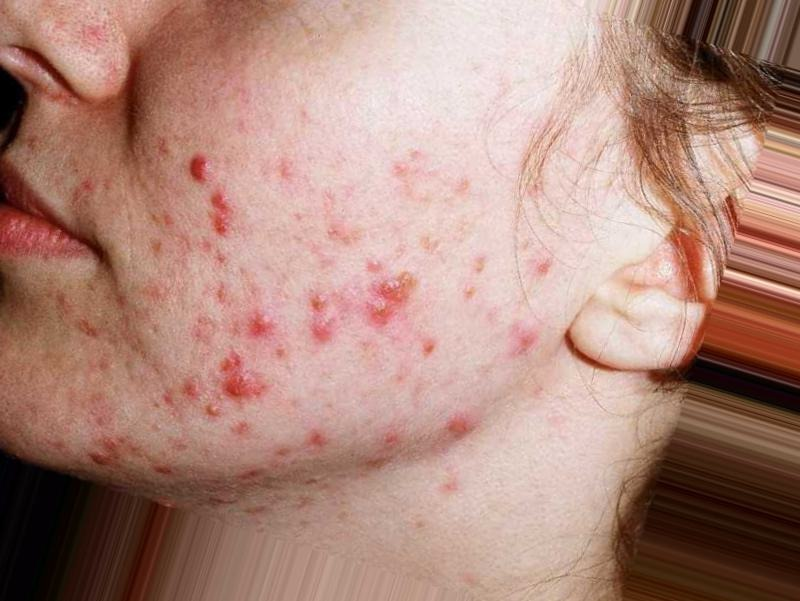Acne: (48, 110, 501, 518)
